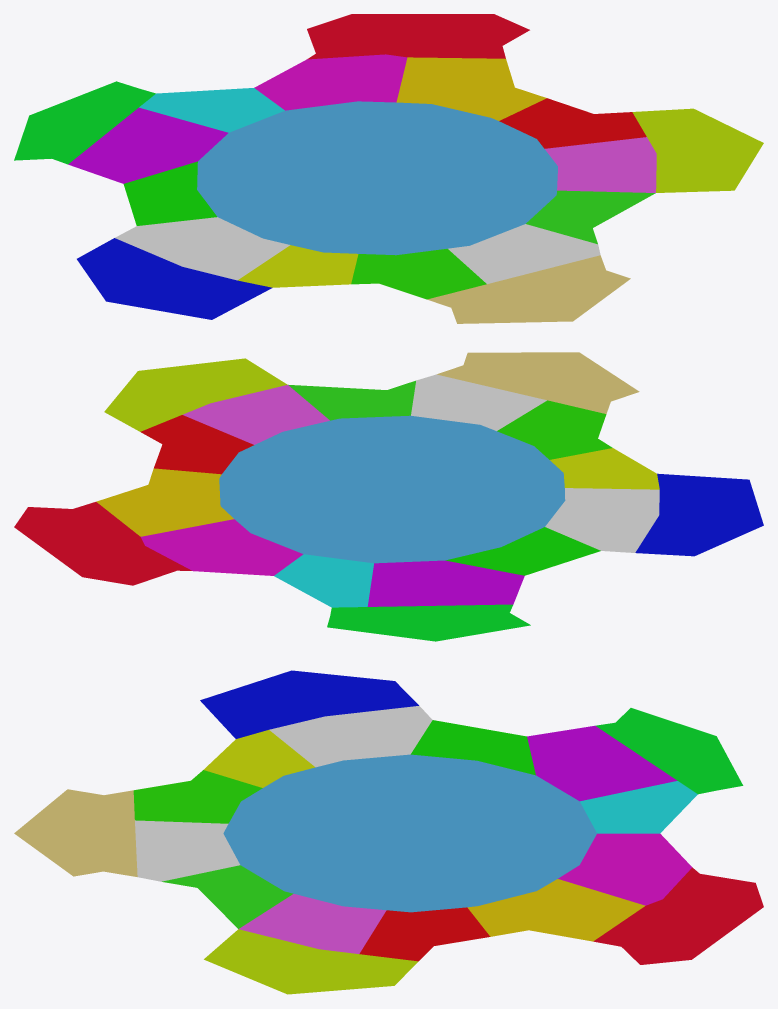
File: floor_new_2.fbx
3 renders of one model, top to bottom at view 1: azimuth 30°, elevation 25°; view 2: azimuth 150°, elevation 25°; view 3: azimuth 270°, elevation 25°, orthographic. The views are drawn at different scales.
Visible parts, largest first — view 1: Cube; view 2: Cube; view 3: Cube.
Part boxes in pixels (x1,y1,x2,y2): Cube: (14, 14, 763, 323); Cube: (14, 352, 763, 641); Cube: (14, 670, 763, 994).
Bounding box in the file's own units: 42.08 × 6.73e-06 × 41.15.
